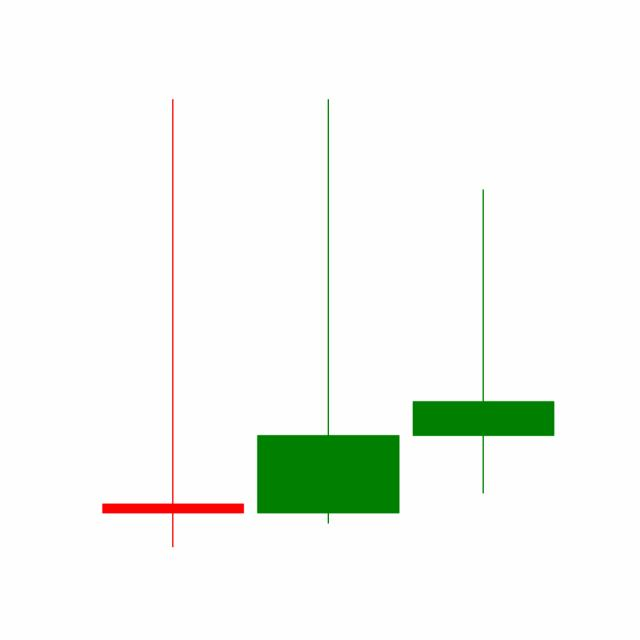Gravestone Doji: (405, 185, 561, 497)
